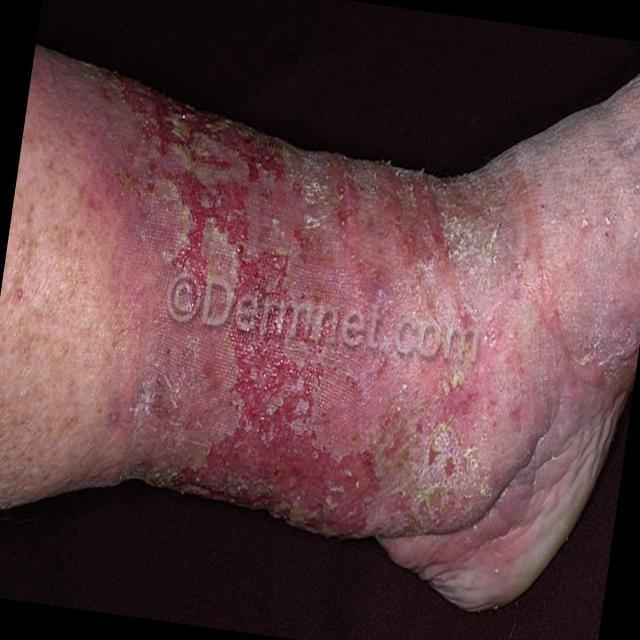Eczema: (80, 76, 523, 536)
